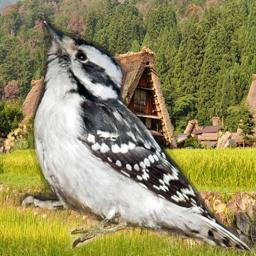Woodpecker: (14, 15, 251, 251)
